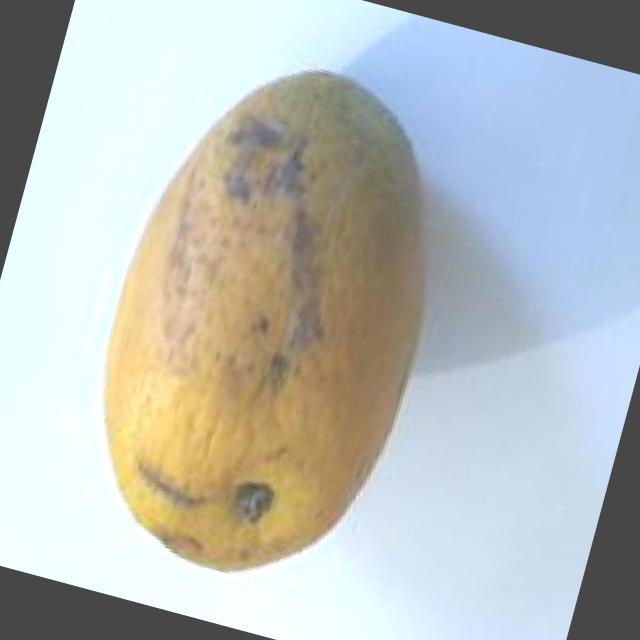Orange: (53, 32, 479, 610)
